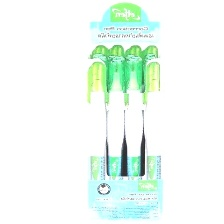book: (84, 0, 168, 222)
correction_fluid: (87, 58, 111, 204), (123, 54, 146, 203), (105, 54, 127, 204), (141, 56, 163, 201)
